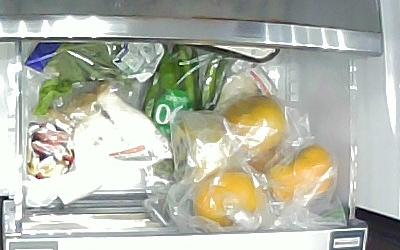persimmon_vinyl: (228, 95, 286, 162), (173, 116, 230, 180), (196, 170, 260, 227), (294, 144, 334, 197), (267, 162, 297, 202)
